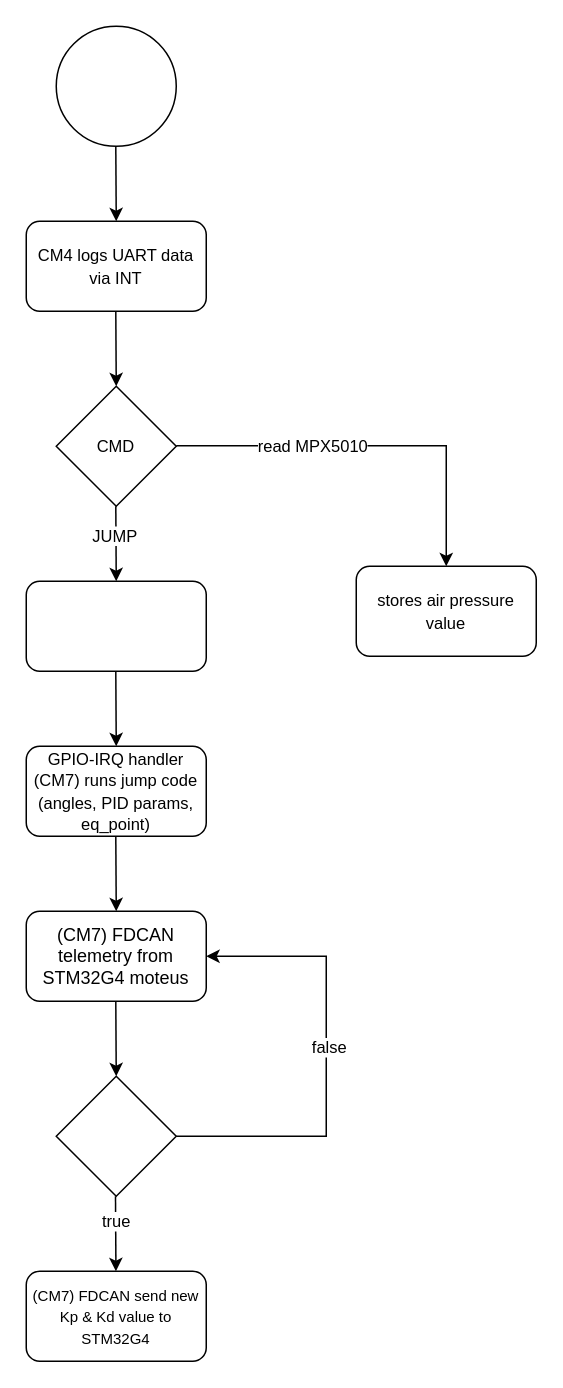
The diagram is 563 pixels wide and 1388 high, and some of its shapes have lost their labels. The shapes that lost their labels are listed below. From the top down, each one's centre as x and y in pixels, then its label:
At (x=115, y=85): "START".
At (x=115, y=625): "turn on GPIO (CM4/CM7)".
At (x=115, y=1135): "torque < threshold & dy/dt < 0".
